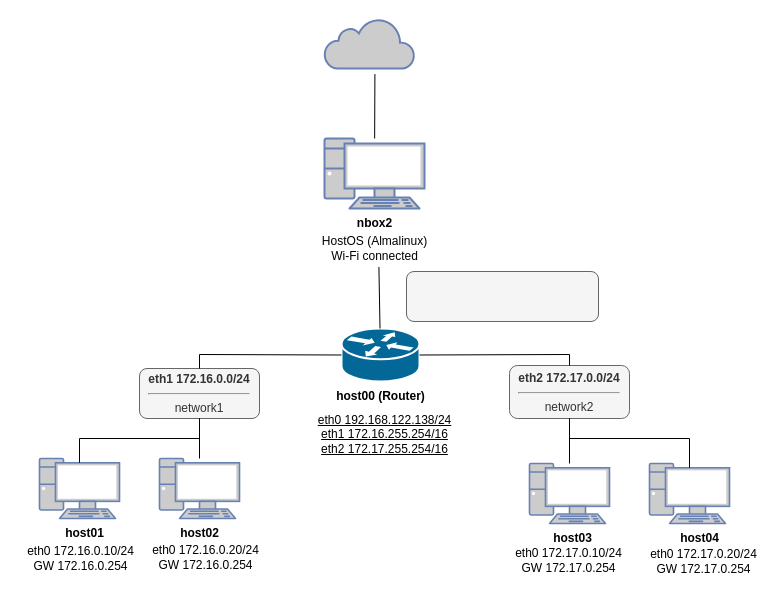
This 782x598 diagram has some shape labels left out. Here are the shapes that lost their labels. From the top down, the centre of each, then its label:
At [369,43]: "Internet".
At [502,296]: "eth0 192.168.122.0/24 libvirt NAT Network".
